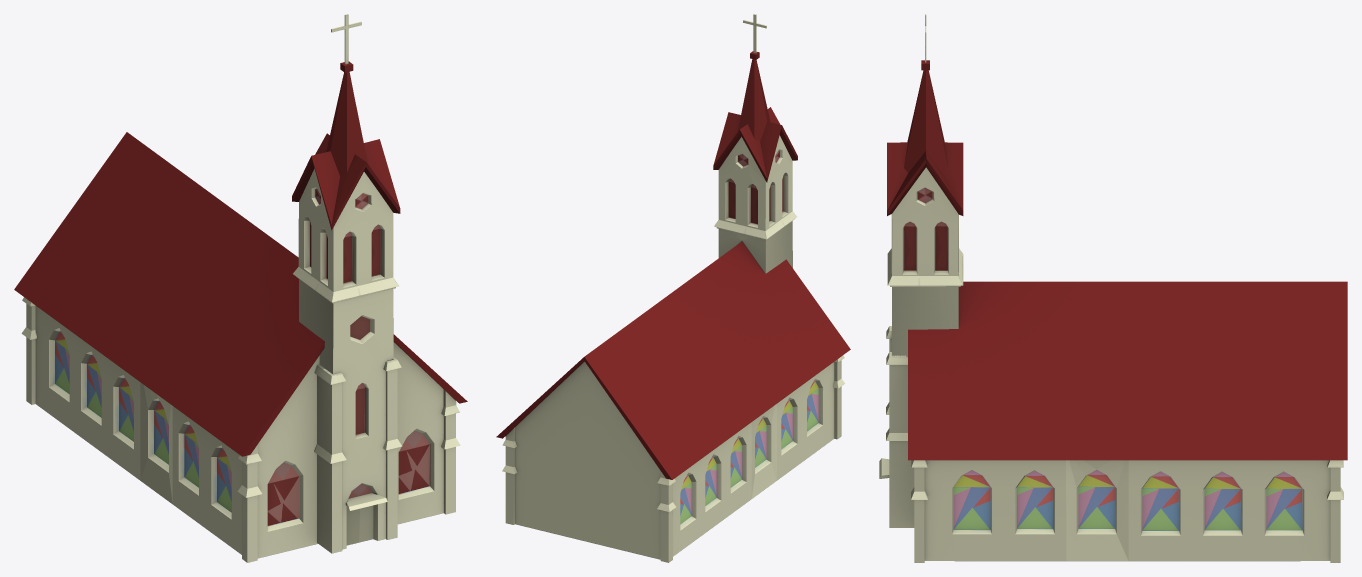
Rendered from Church.gltf.
3 views of the same model, side by side, from view 1: azimuth 30°, elevation 25°; view 2: azimuth 150°, elevation 25°; view 3: azimuth 270°, elevation 25° (orthographic). The views are drawn at different scales.
Visible parts, largest first — view 1: node-0; view 2: node-0; view 3: node-0.
Part boxes in pixels (x1,y1,x2,y2): node-0: (14, 14, 467, 562); node-0: (496, 14, 850, 562); node-0: (879, 14, 1347, 562).
Bounding box in the file's own units: 13.1 × 28.76 × 24.45.
Materials: 1 (1 with a texture image).
